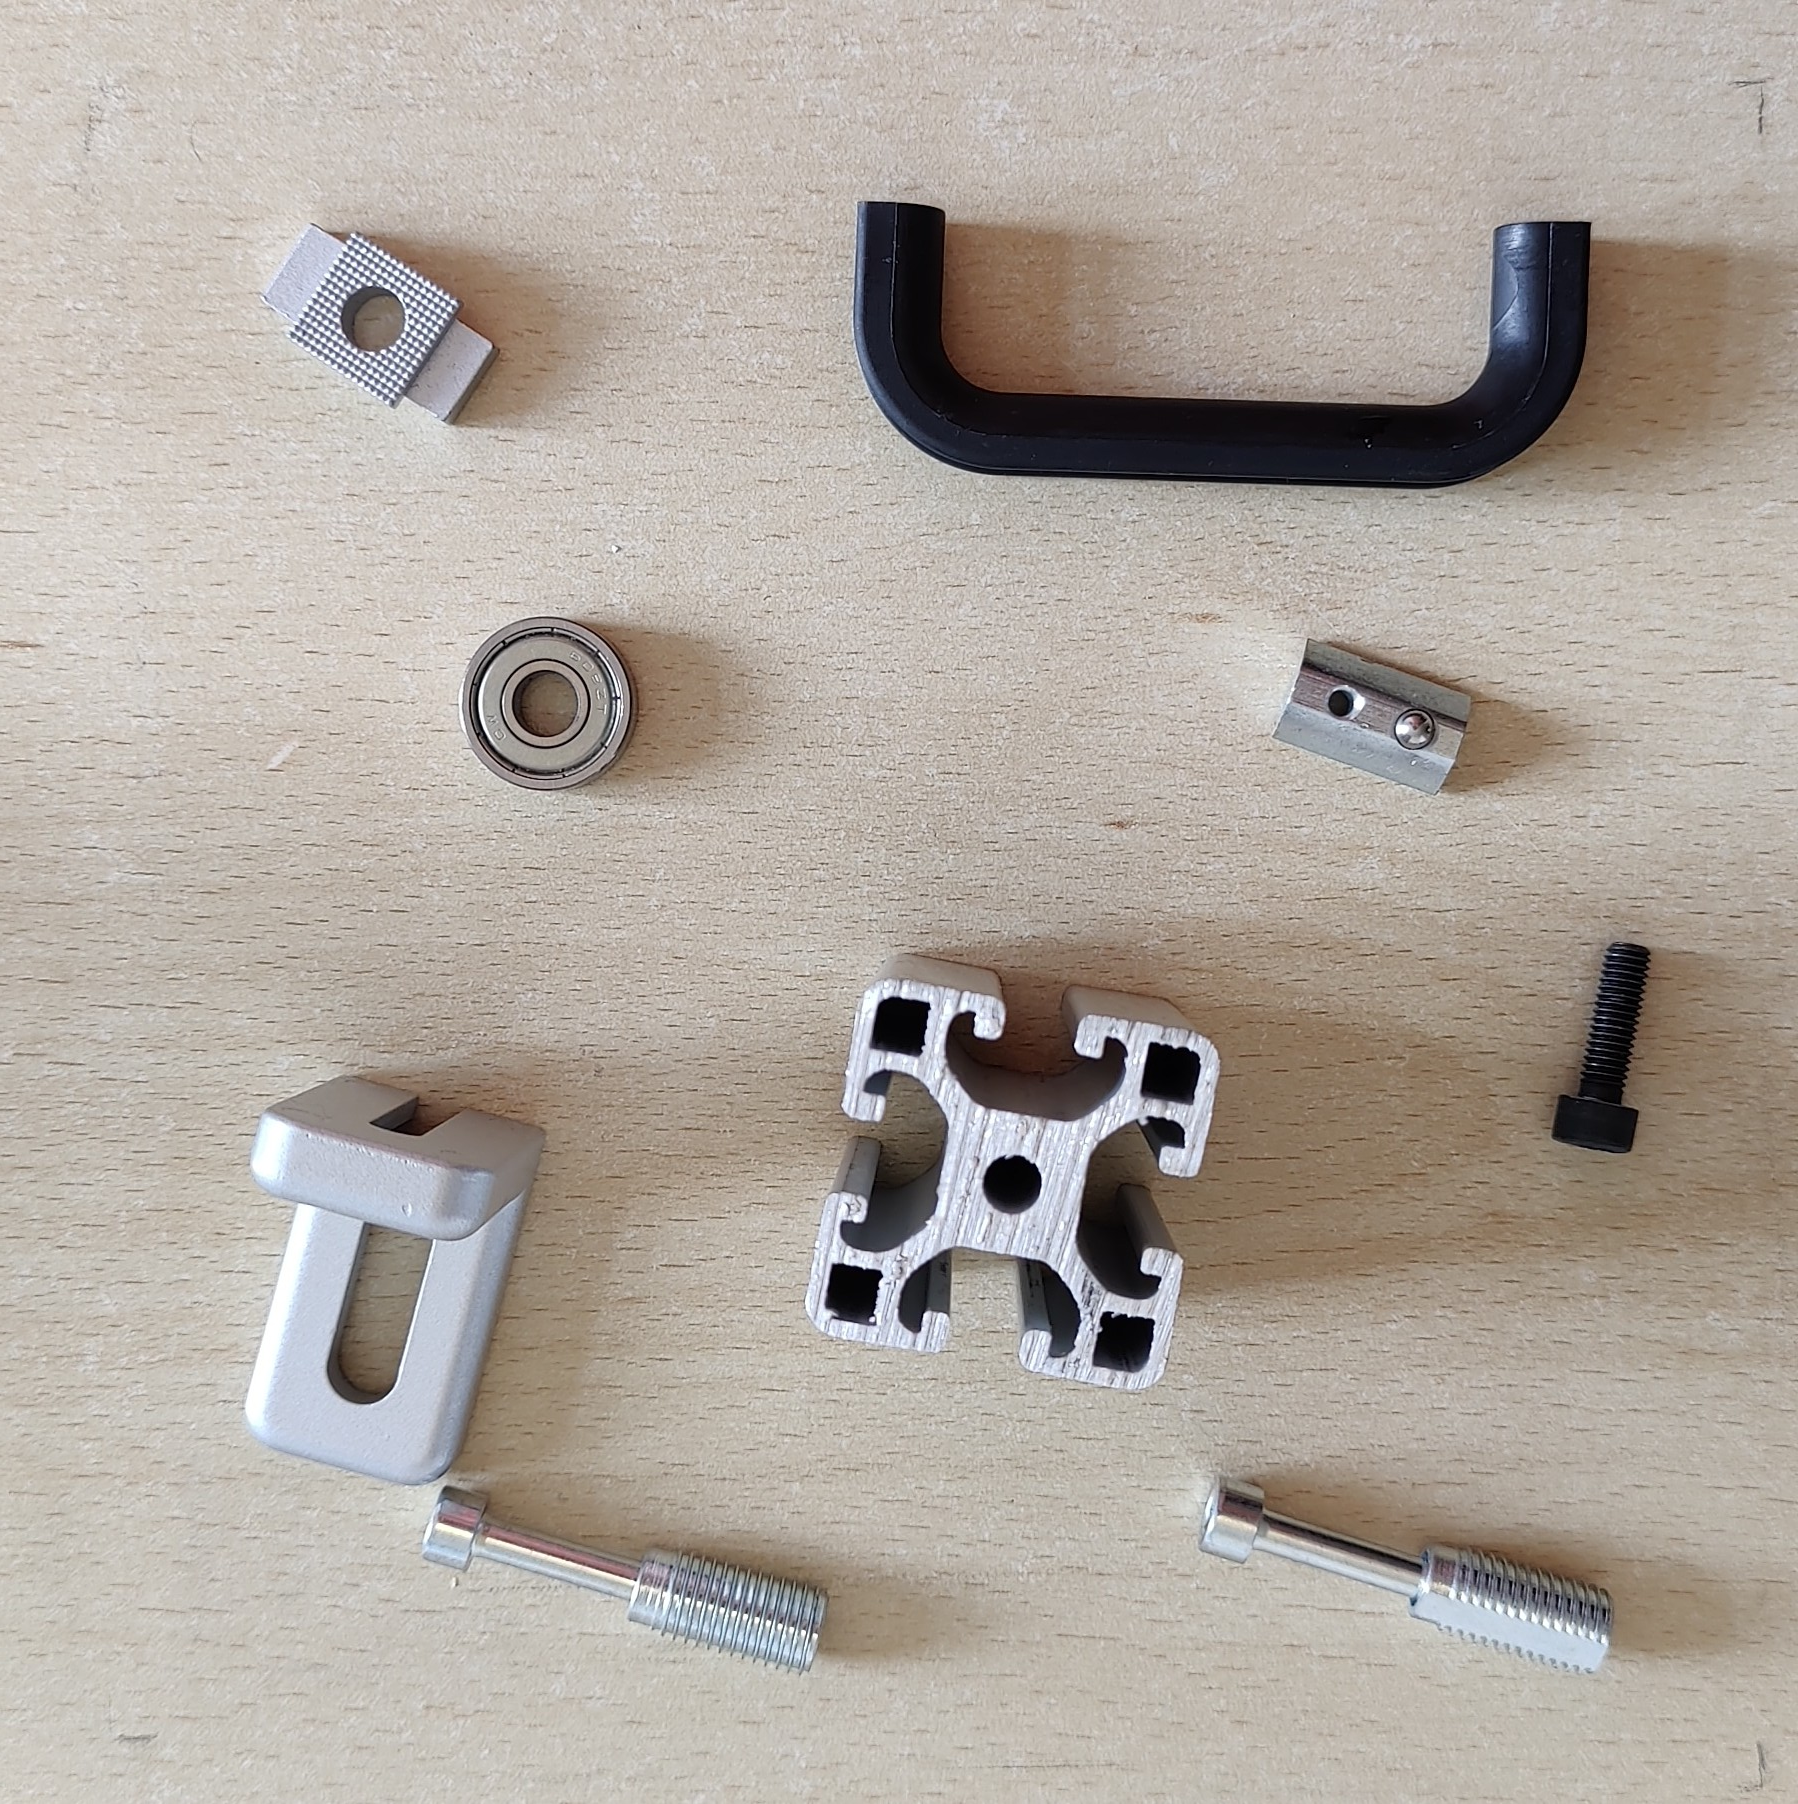Aluminium Extension: (804, 948, 1222, 1393)
Ball Bearing: (456, 614, 644, 797)
Multiwinkel: (240, 1070, 548, 1488)
Pull Handle: (850, 199, 1592, 492)
Shoulder Socket Head Cap Screw: (1194, 1468, 1619, 1681), (418, 1480, 830, 1677)
Socket Head Cap Screw: (1549, 937, 1658, 1159)
T Nut Square: (255, 222, 502, 430)
T Spring Nut: (1269, 634, 1474, 797)
